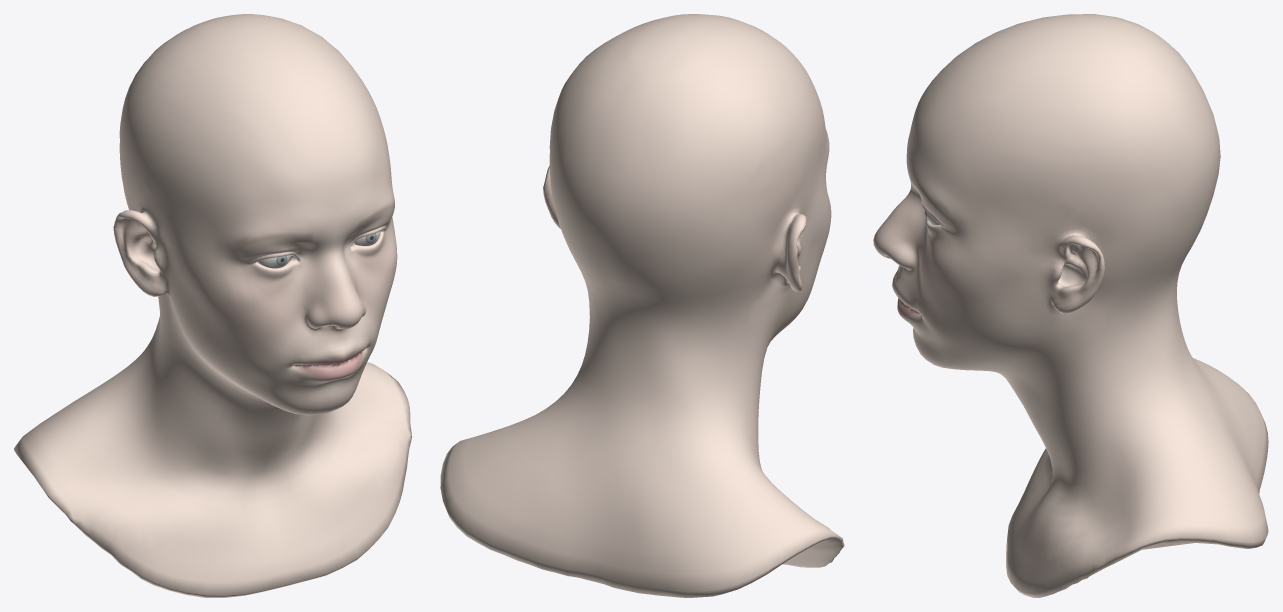
The model's file is full-model.glb.
The picture shows the model from 3 angles, left to right: view 1: azimuth 30°, elevation 25°; view 2: azimuth 150°, elevation 25°; view 3: azimuth 270°, elevation 25°; orthographic projection.
Visible parts, largest first — view 1: Layer_01_Skin_Cutis_Node; view 2: Layer_01_Skin_Cutis_Node; view 3: Layer_01_Skin_Cutis_Node.
Part boxes in pixels (x1,y1,x2,y2): Layer_01_Skin_Cutis_Node: [14, 14, 411, 597]; Layer_01_Skin_Cutis_Node: [440, 14, 844, 597]; Layer_01_Skin_Cutis_Node: [873, 14, 1268, 597].
Bounding box in the file's own units: 1.46 × 2.03 × 1.36.
